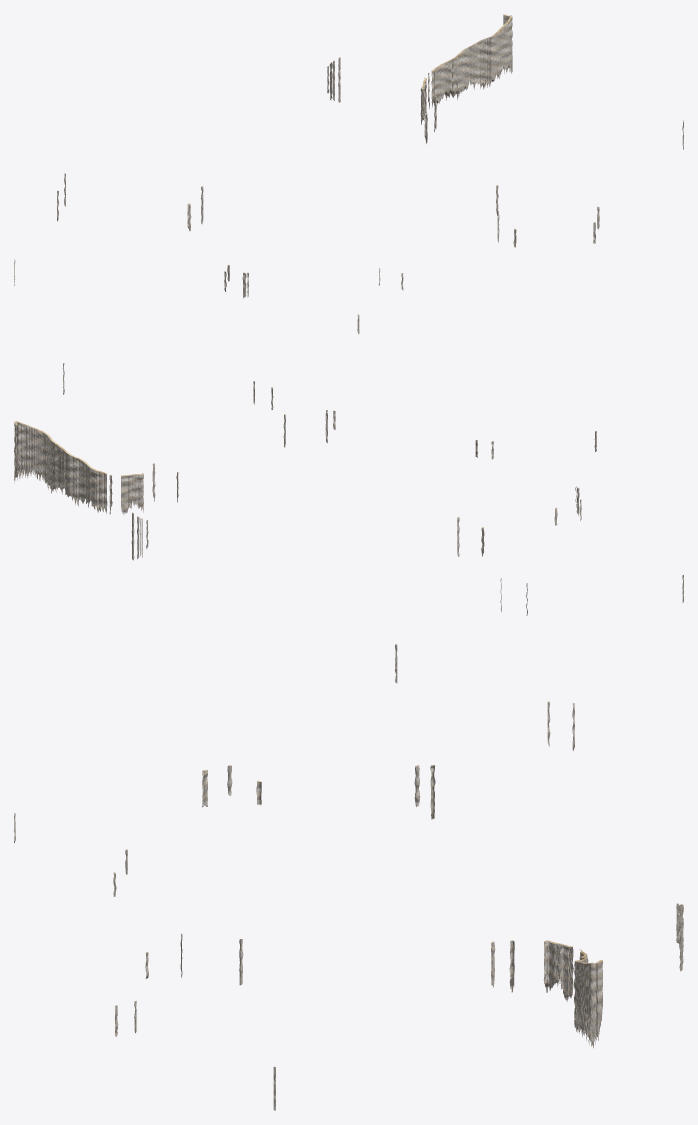
File: Floor1_Natural_Bridges.fbx
3 views of the same model, one above another, from view 1: azimuth 30°, elevation 25°; view 2: azimuth 150°, elevation 25°; view 3: azimuth 270°, elevation 25° (orthographic). The views are drawn at different scales.
Parts seen in each view (by area): view 1: Natural_Bridges_Cliffs__F1_Rock_Strata_25, Natural_Bridges_Cliffs__F1_Rock_30, Natural_Bridges_Cliffs__F1_Rock_Light_26; view 2: Natural_Bridges_Cliffs__F1_Rock_Light_26, Natural_Bridges_Cliffs__F1_Rock_Strata_25, Natural_Bridges_Cliffs__F1_Rock_30, Natural_Bridges_Cliffs__F1_Rock_Light_20, Natural_Bridges_Cliffs__F1_Rock_24, Natural_Bridges_Cliffs__F1_Rock_Strata_20; view 3: Natural_Bridges_Cliffs__F1_Rock_Light_20, Natural_Bridges_Cliffs__F1_Rock_Strata_20.
Boxes of the visible parts, box(x1,y1,x2,y2) form: Natural_Bridges_Cliffs__F1_Rock_Strata_25: box(437, 26, 508, 101); Natural_Bridges_Cliffs__F1_Rock_30: box(437, 22, 508, 103); Natural_Bridges_Cliffs__F1_Rock_Light_26: box(437, 23, 508, 99); Natural_Bridges_Cliffs__F1_Rock_Light_26: box(23, 425, 99, 510); Natural_Bridges_Cliffs__F1_Rock_Strata_25: box(24, 428, 99, 509); Natural_Bridges_Cliffs__F1_Rock_30: box(23, 425, 99, 510); Natural_Bridges_Cliffs__F1_Rock_Light_20: box(99, 464, 178, 511); Natural_Bridges_Cliffs__F1_Rock_24: box(99, 469, 178, 511); Natural_Bridges_Cliffs__F1_Rock_Strata_20: box(99, 467, 178, 509); Natural_Bridges_Cliffs__F1_Rock_Light_20: box(491, 941, 580, 994); Natural_Bridges_Cliffs__F1_Rock_Strata_20: box(491, 944, 582, 994).
Size of the model in its own units: 1508208 by 205041 by 954070.
